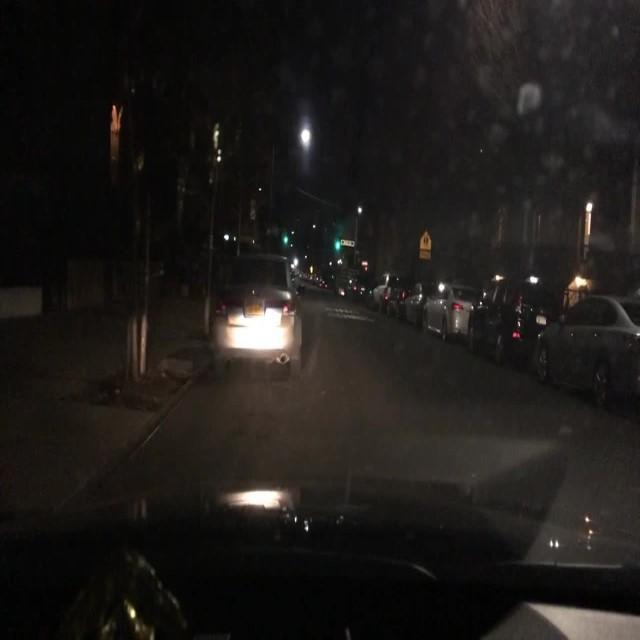normal: (531, 295, 639, 411), (422, 279, 481, 340)
